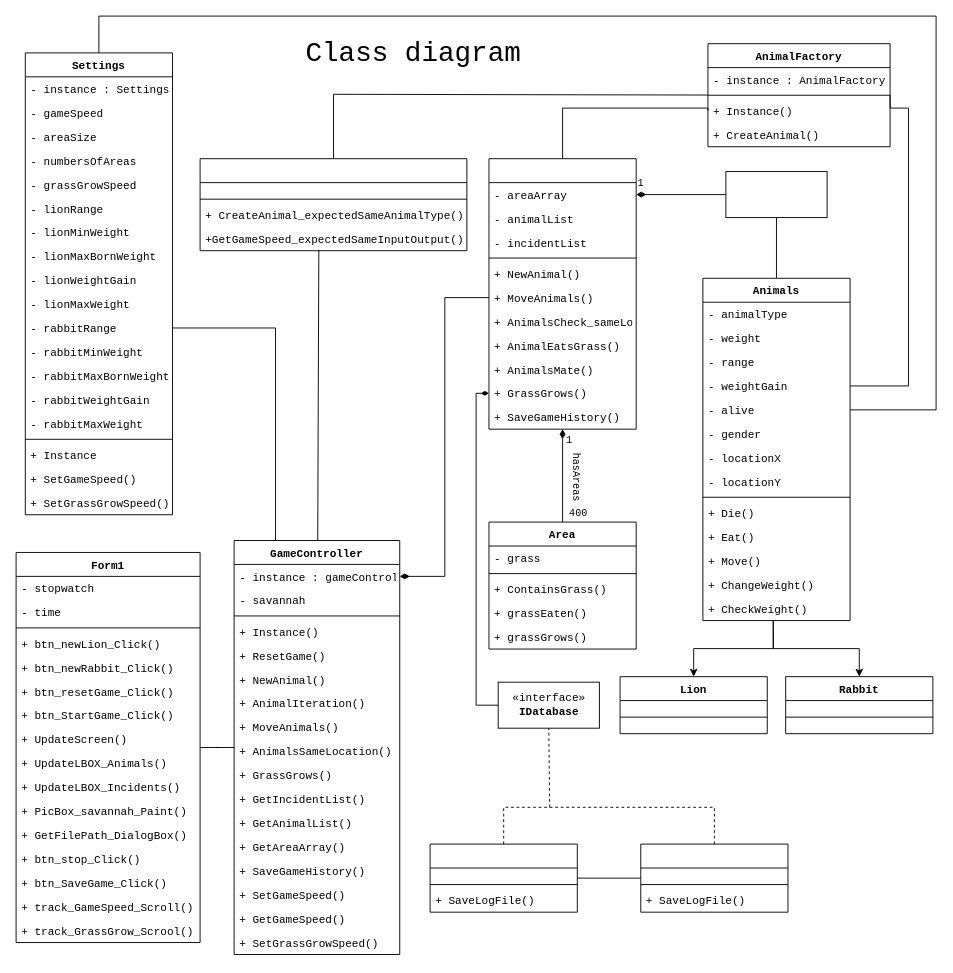
Some shapes in this 953 by 973 pixel diagram are drawn without their labels. The shapes that lost their labels are listed below. From the top down, each one's box as (x1, y1, x2, y2) in pixels, then its label:
(199, 158, 467, 251): UnitTest
(725, 171, 827, 218): «interface» IAnimal
(488, 158, 636, 429): SavannahGame
(429, 843, 577, 912): TextFile
(640, 843, 788, 912): DatabaseProxy
